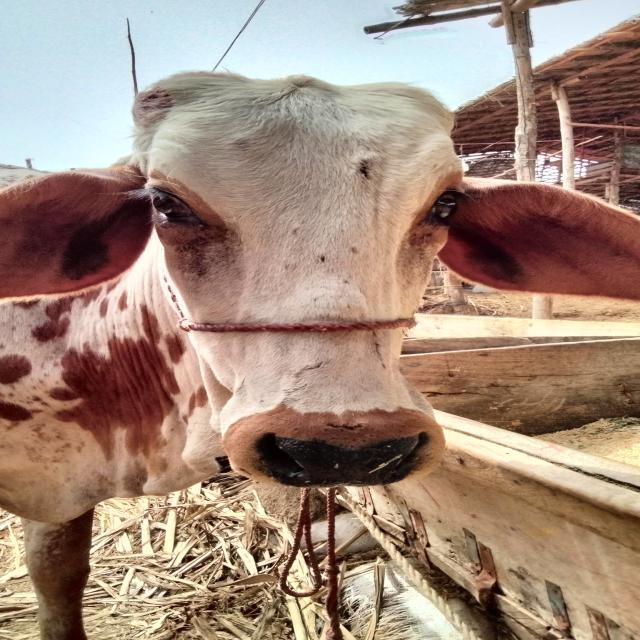muzzles: (225, 413, 452, 493)
